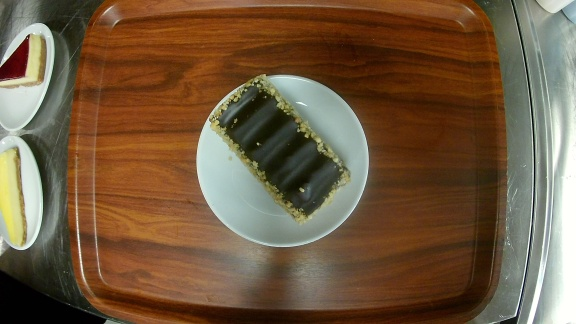muzlupasta: (197, 74, 369, 247)
